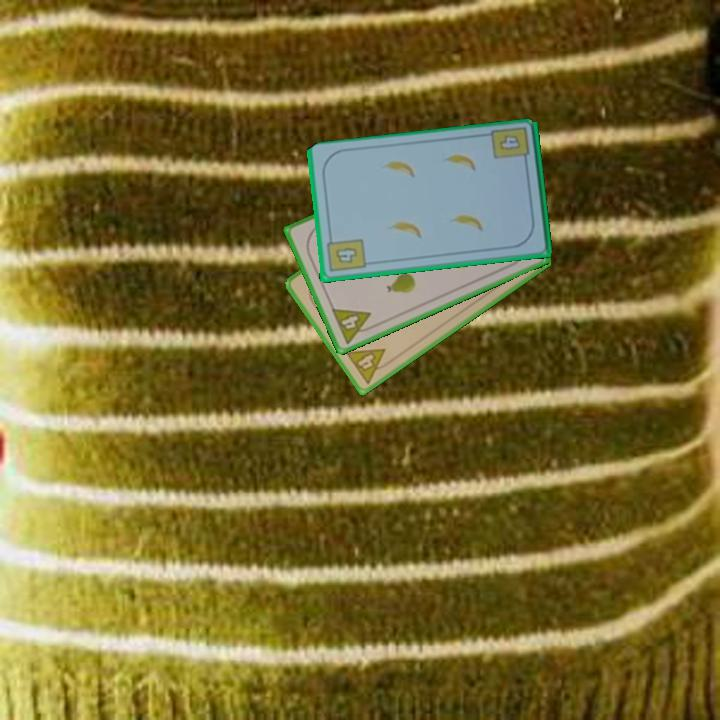4b: (488, 124, 533, 168), (323, 232, 368, 275)
4p: (342, 345, 396, 387), (328, 305, 379, 347)
